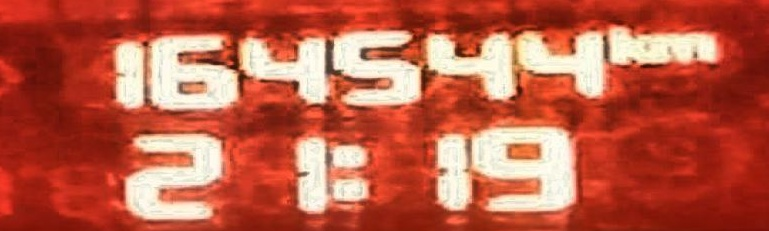1: (428, 132, 468, 211), (288, 135, 328, 214), (110, 37, 145, 109)
2: (124, 129, 225, 221)
4: (513, 28, 604, 101), (422, 29, 514, 100), (237, 33, 328, 104)
5: (328, 27, 423, 106)
6: (145, 32, 234, 110)
9: (470, 121, 580, 213)
X: (328, 141, 372, 204), (648, 29, 718, 64), (606, 23, 650, 65)
